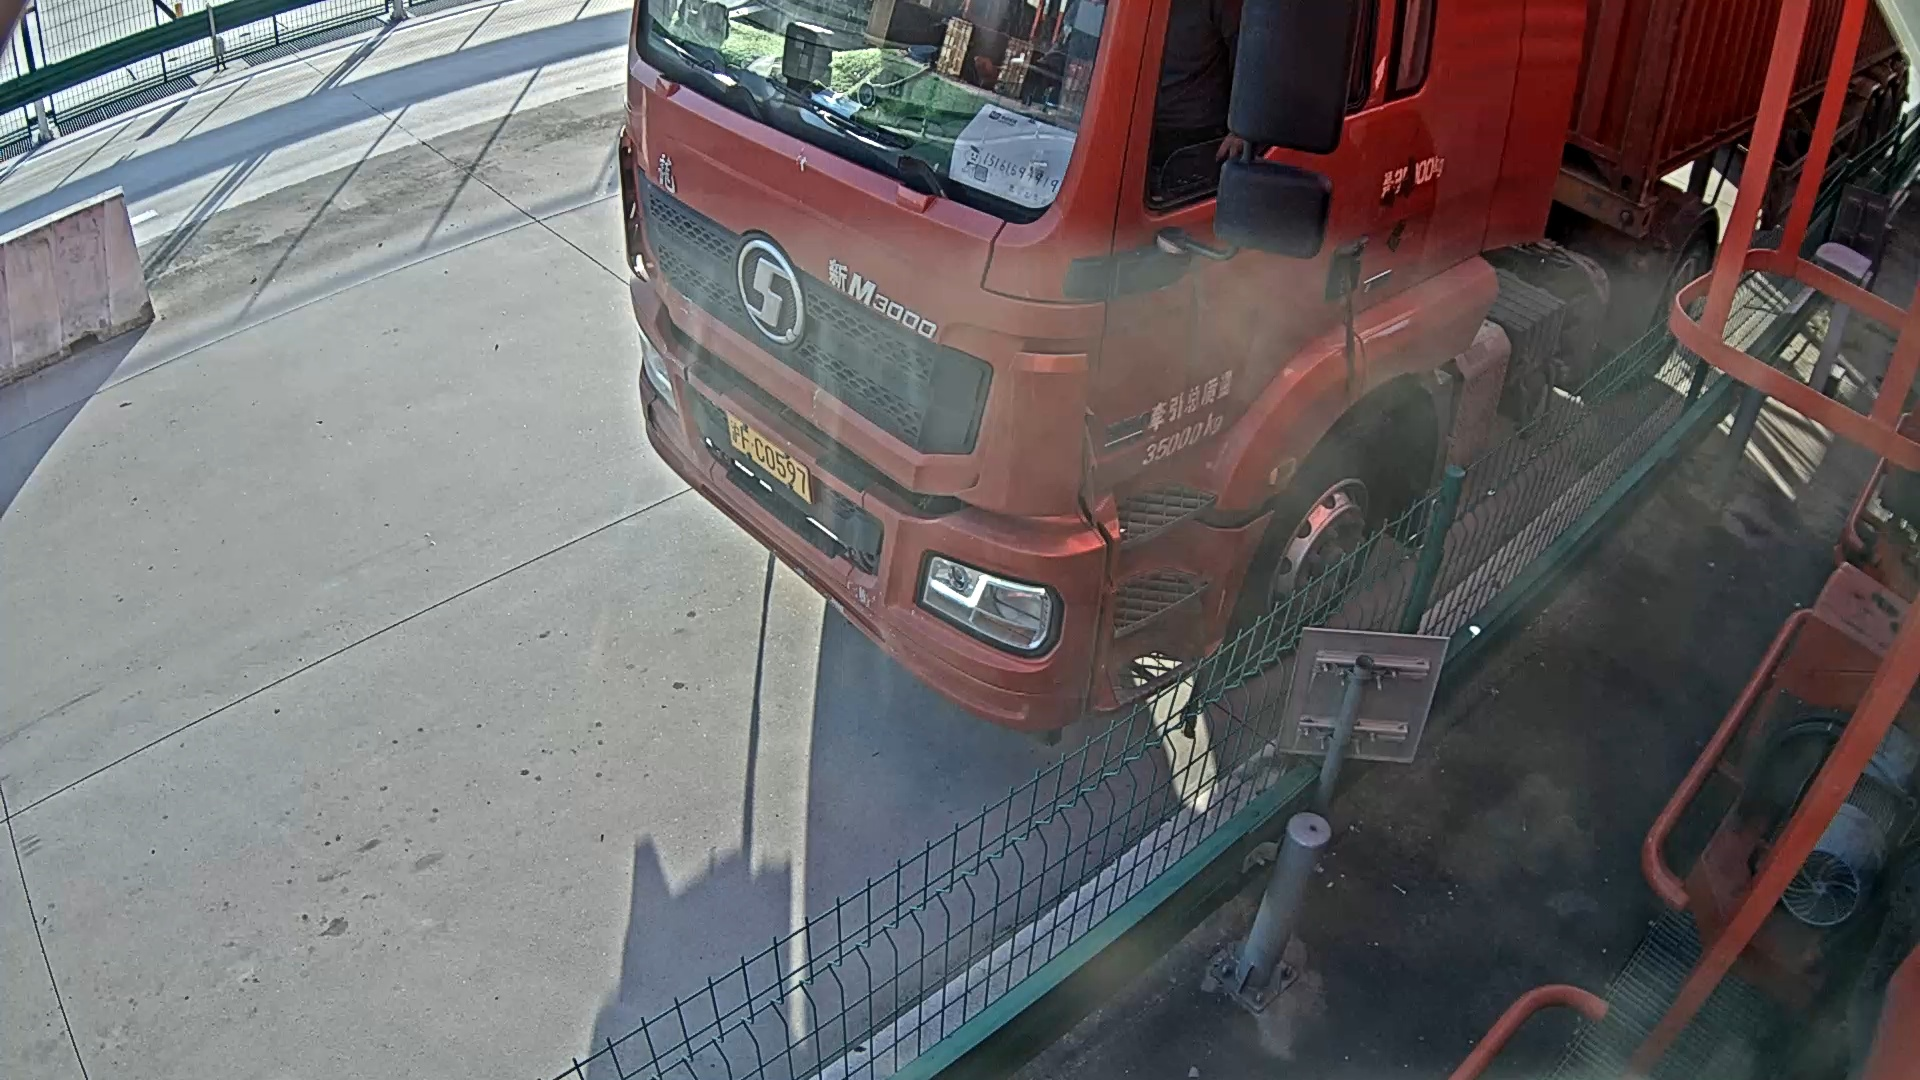head: (601, 4, 1454, 772)
plate: (718, 413, 837, 508)
